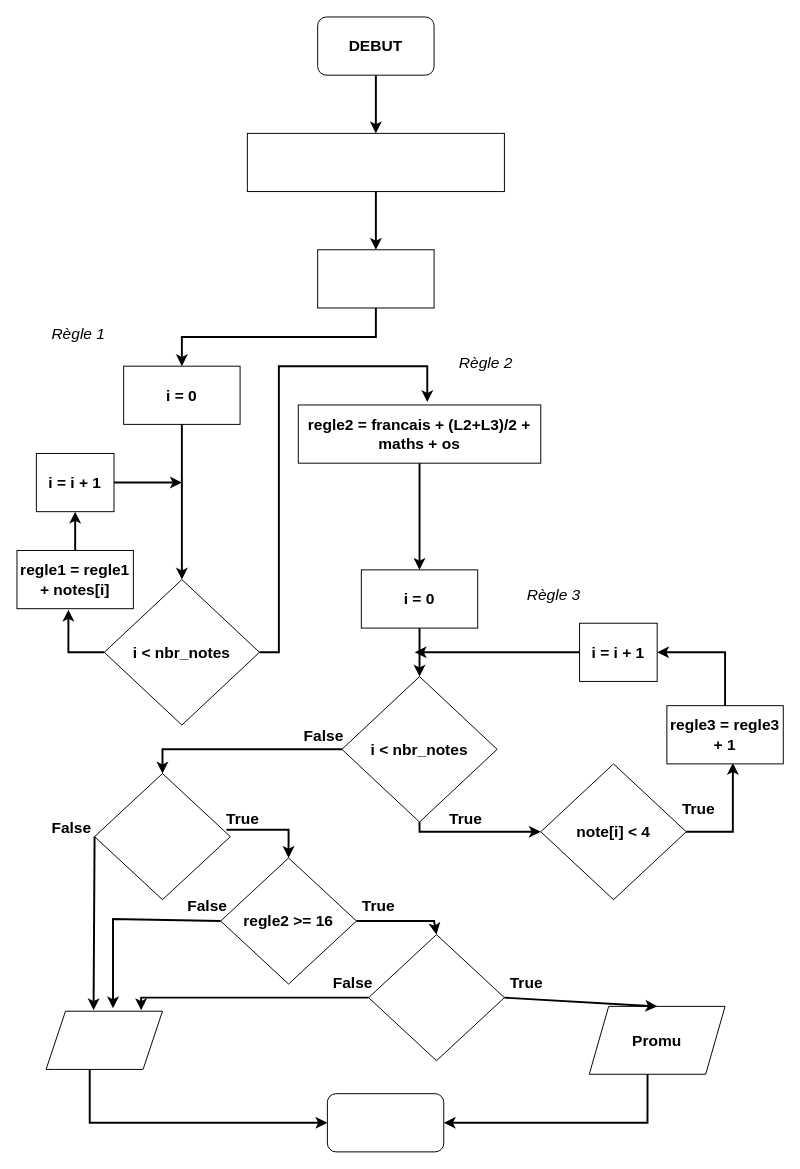
Some shapes in this 800 by 1169 pixel diagram are drawn without their labels. The shapes that lost their labels are listed below. From the top down, each one's centre as x and y in pixels, then its label:
At point 375,162: "Entrez les notes de l'élève".
At point 375,278: "promu = False".
At point 162,836: "regle1 >= len(notes)*4".
At point 436,997: "regle3 <= 4".
At point 103,1039: "Non Promu".
At point 385,1122: "FIN".
